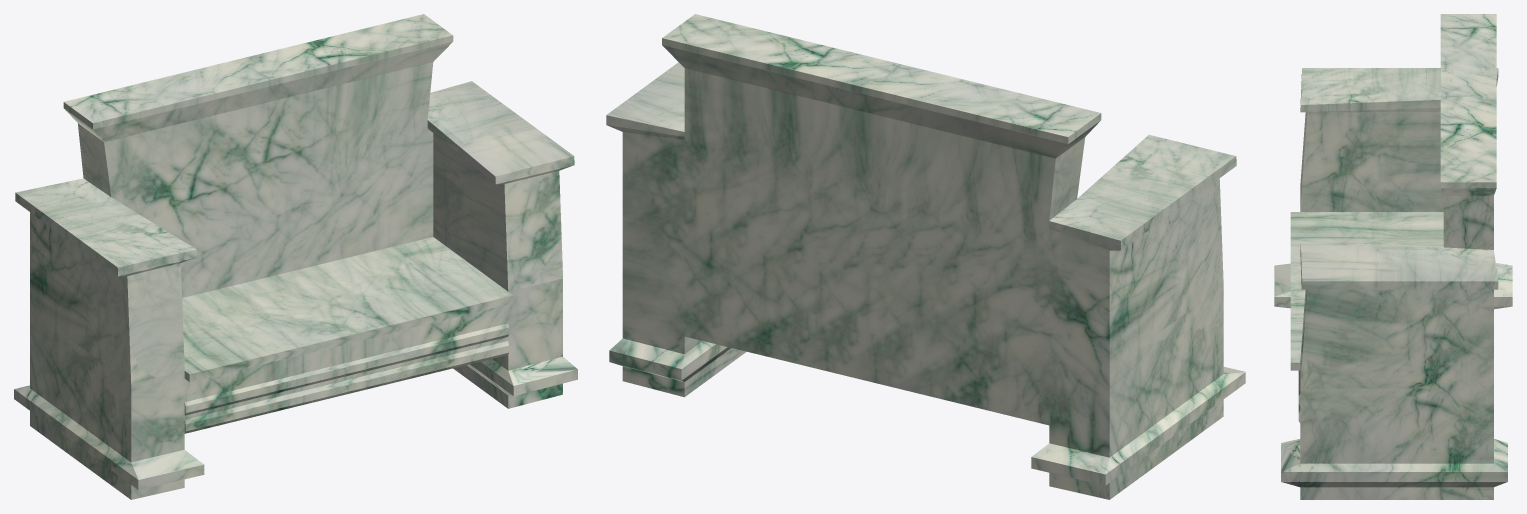
The picture shows the model from 3 angles, left to right: view 1: azimuth 30°, elevation 25°; view 2: azimuth 150°, elevation 25°; view 3: azimuth 270°, elevation 25°; orthographic projection. The views are drawn at different scales.
Visible parts, largest first — view 1: Cube; view 2: Cube; view 3: Cube.
Part boxes in pixels (x1,y1,x2,y2): Cube: (14,14,577,499); Cube: (606,14,1245,499); Cube: (1274,14,1512,499).
Bounding box in the file's own units: 150 × 98.7 × 70.59.
1 material, 1 textured.
